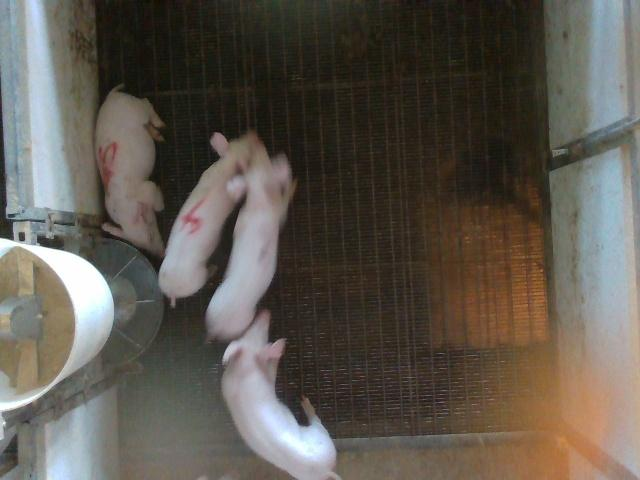pig-2: (206, 131, 296, 341)
pig-4: (159, 132, 249, 306)
pig-5: (95, 85, 165, 257)
